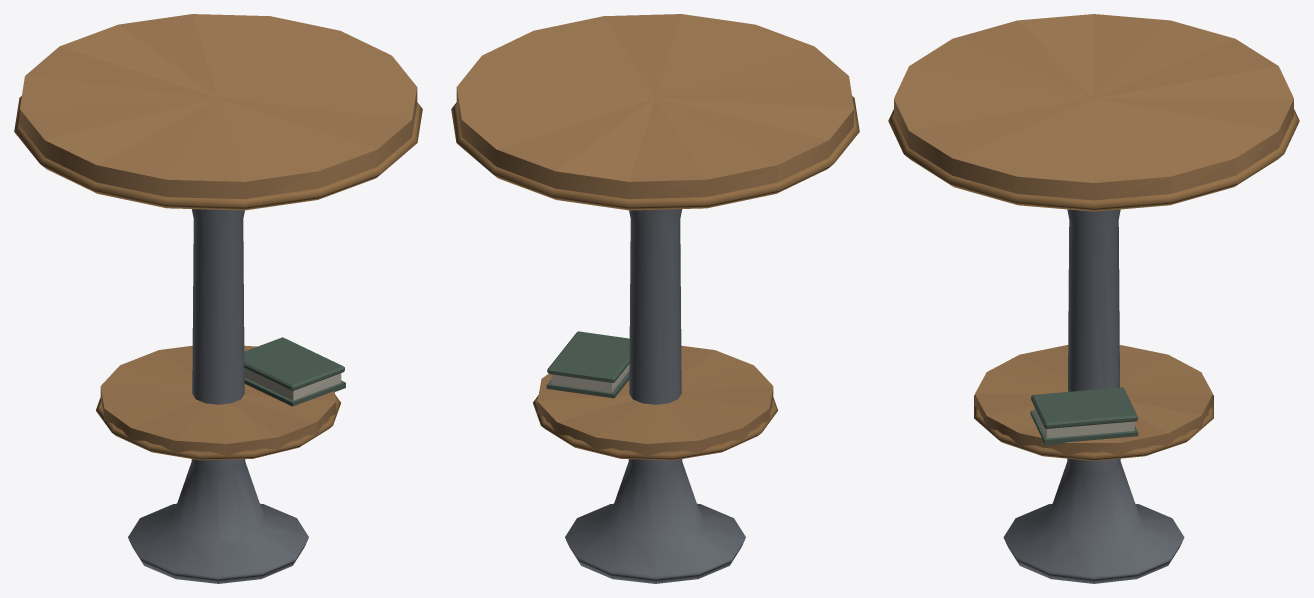
File: office_side_table.glb
3 views of the same model, side by side, from view 1: azimuth 30°, elevation 25°; view 2: azimuth 150°, elevation 25°; view 3: azimuth 270°, elevation 25° (orthographic).
Visible parts, largest first — view 1: office_side_table; view 2: office_side_table; view 3: office_side_table.
Boxes of the visible parts, x1,y1,x2,y2 form: office_side_table: (14,14,422,583); office_side_table: (451,14,859,583); office_side_table: (888,14,1299,583).
Size of the model in its own units: 0.432 by 0.52 by 0.432.
